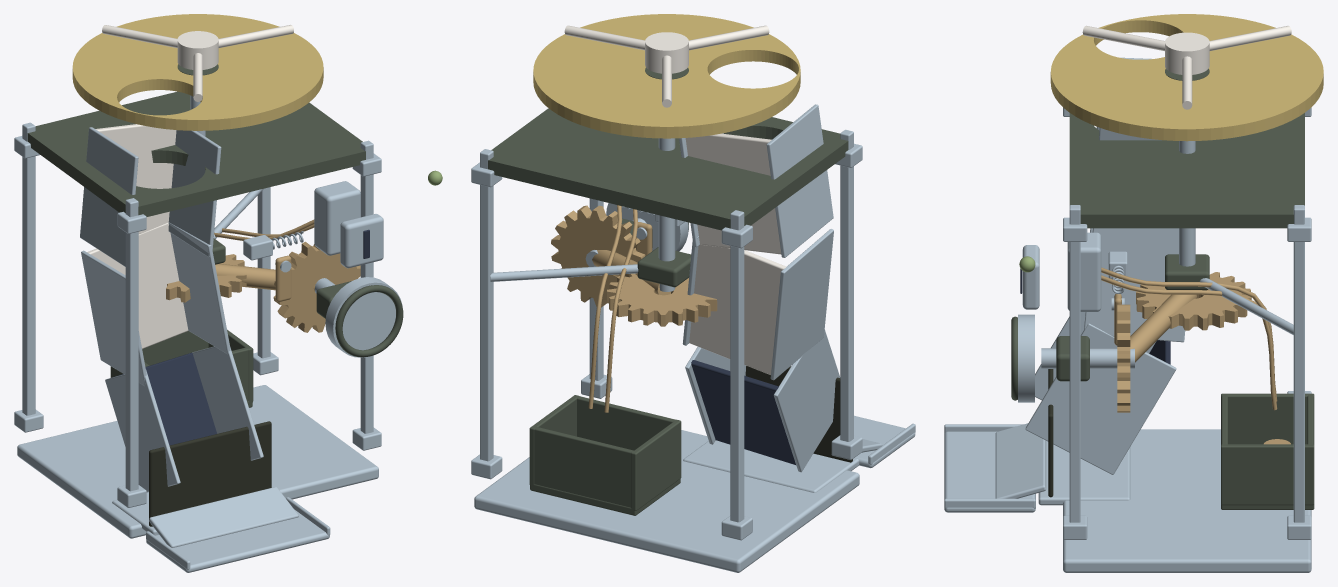
File: machine-garden-core.prefab.glb
3 views of the same model, side by side, from view 1: azimuth 30°, elevation 25°; view 2: azimuth 150°, elevation 25°; view 3: azimuth 270°, elevation 25° (orthographic). The views are drawn at different scales.
Visible parts, largest first — view 1: PaperCapsuleMachine_Batch0, PaperCapsuleMachine_Batch1, MeteringDisc_Batch0, OutletFlap_Batch0, DriveGear_Batch0, Stirrer_Batch0, BevelGear_Batch0, LockPawl_Batch0; view 2: PaperCapsuleMachine_Batch0, PaperCapsuleMachine_Batch1, MeteringDisc_Batch0, DriveGear_Batch0, Stirrer_Batch0, BevelGear_Batch0, OutletFlap_Batch0, Spindle_Batch0; view 3: PaperCapsuleMachine_Batch0, PaperCapsuleMachine_Batch1, MeteringDisc_Batch0, Stirrer_Batch0, BevelGear_Batch0, DriveGear_Batch0, Spindle_Batch0, OutletFlap_Batch0.
Part boxes in pixels (left/top/right/bottom): PaperCapsuleMachine_Batch0: left=14, top=122, right=402, bottom=572; PaperCapsuleMachine_Batch1: left=27, top=91, right=442, bottom=445; MeteringDisc_Batch0: left=72, top=14, right=323, bottom=130; OutletFlap_Batch0: left=149, top=421, right=271, bottom=526; DriveGear_Batch0: left=273, top=241, right=360, bottom=332; Stirrer_Batch0: left=102, top=25, right=293, bottom=101; BevelGear_Batch0: left=166, top=254, right=246, bottom=302; LockPawl_Batch0: left=275, top=255, right=291, bottom=301; PaperCapsuleMachine_Batch0: left=471, top=104, right=915, bottom=572; PaperCapsuleMachine_Batch1: left=488, top=108, right=848, bottom=515; MeteringDisc_Batch0: left=533, top=14, right=800, bottom=138; DriveGear_Batch0: left=551, top=205, right=645, bottom=307; Stirrer_Batch0: left=564, top=25, right=769, bottom=107; BevelGear_Batch0: left=607, top=273, right=717, bottom=326; OutletFlap_Batch0: left=745, top=366, right=852, bottom=462; Spindle_Batch0: left=658, top=138, right=675, bottom=291; PaperCapsuleMachine_Batch0: left=944, top=57, right=1311, bottom=572; PaperCapsuleMachine_Batch1: left=1011, top=113, right=1314, bottom=509; MeteringDisc_Batch0: left=1050, top=14, right=1323, bottom=141; Stirrer_Batch0: left=1082, top=25, right=1291, bottom=109; BevelGear_Batch0: left=1136, top=272, right=1251, bottom=330; DriveGear_Batch0: left=1117, top=304, right=1130, bottom=412; Spindle_Batch0: left=1179, top=141, right=1195, bottom=266; OutletFlap_Batch0: left=1048, top=369, right=1053, bottom=497.
Size of the model in its own units: 0.1998 by 0.275 by 0.203.
2 materials, 2 textured.
